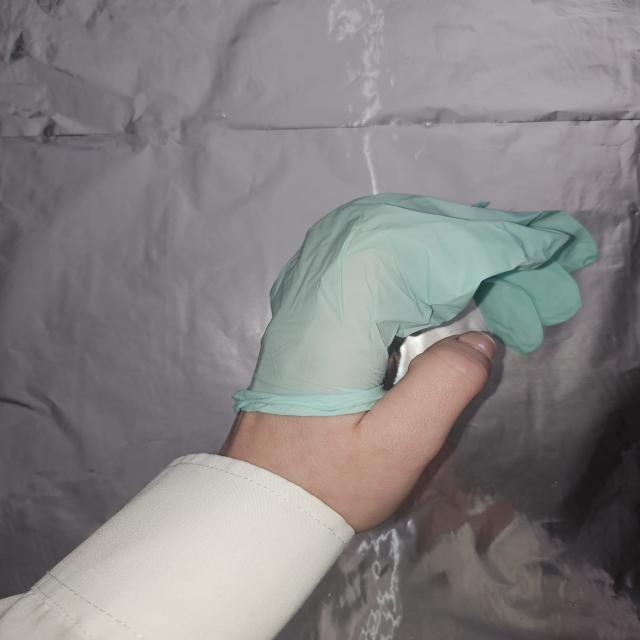glove_partial: (219, 190, 602, 529)
